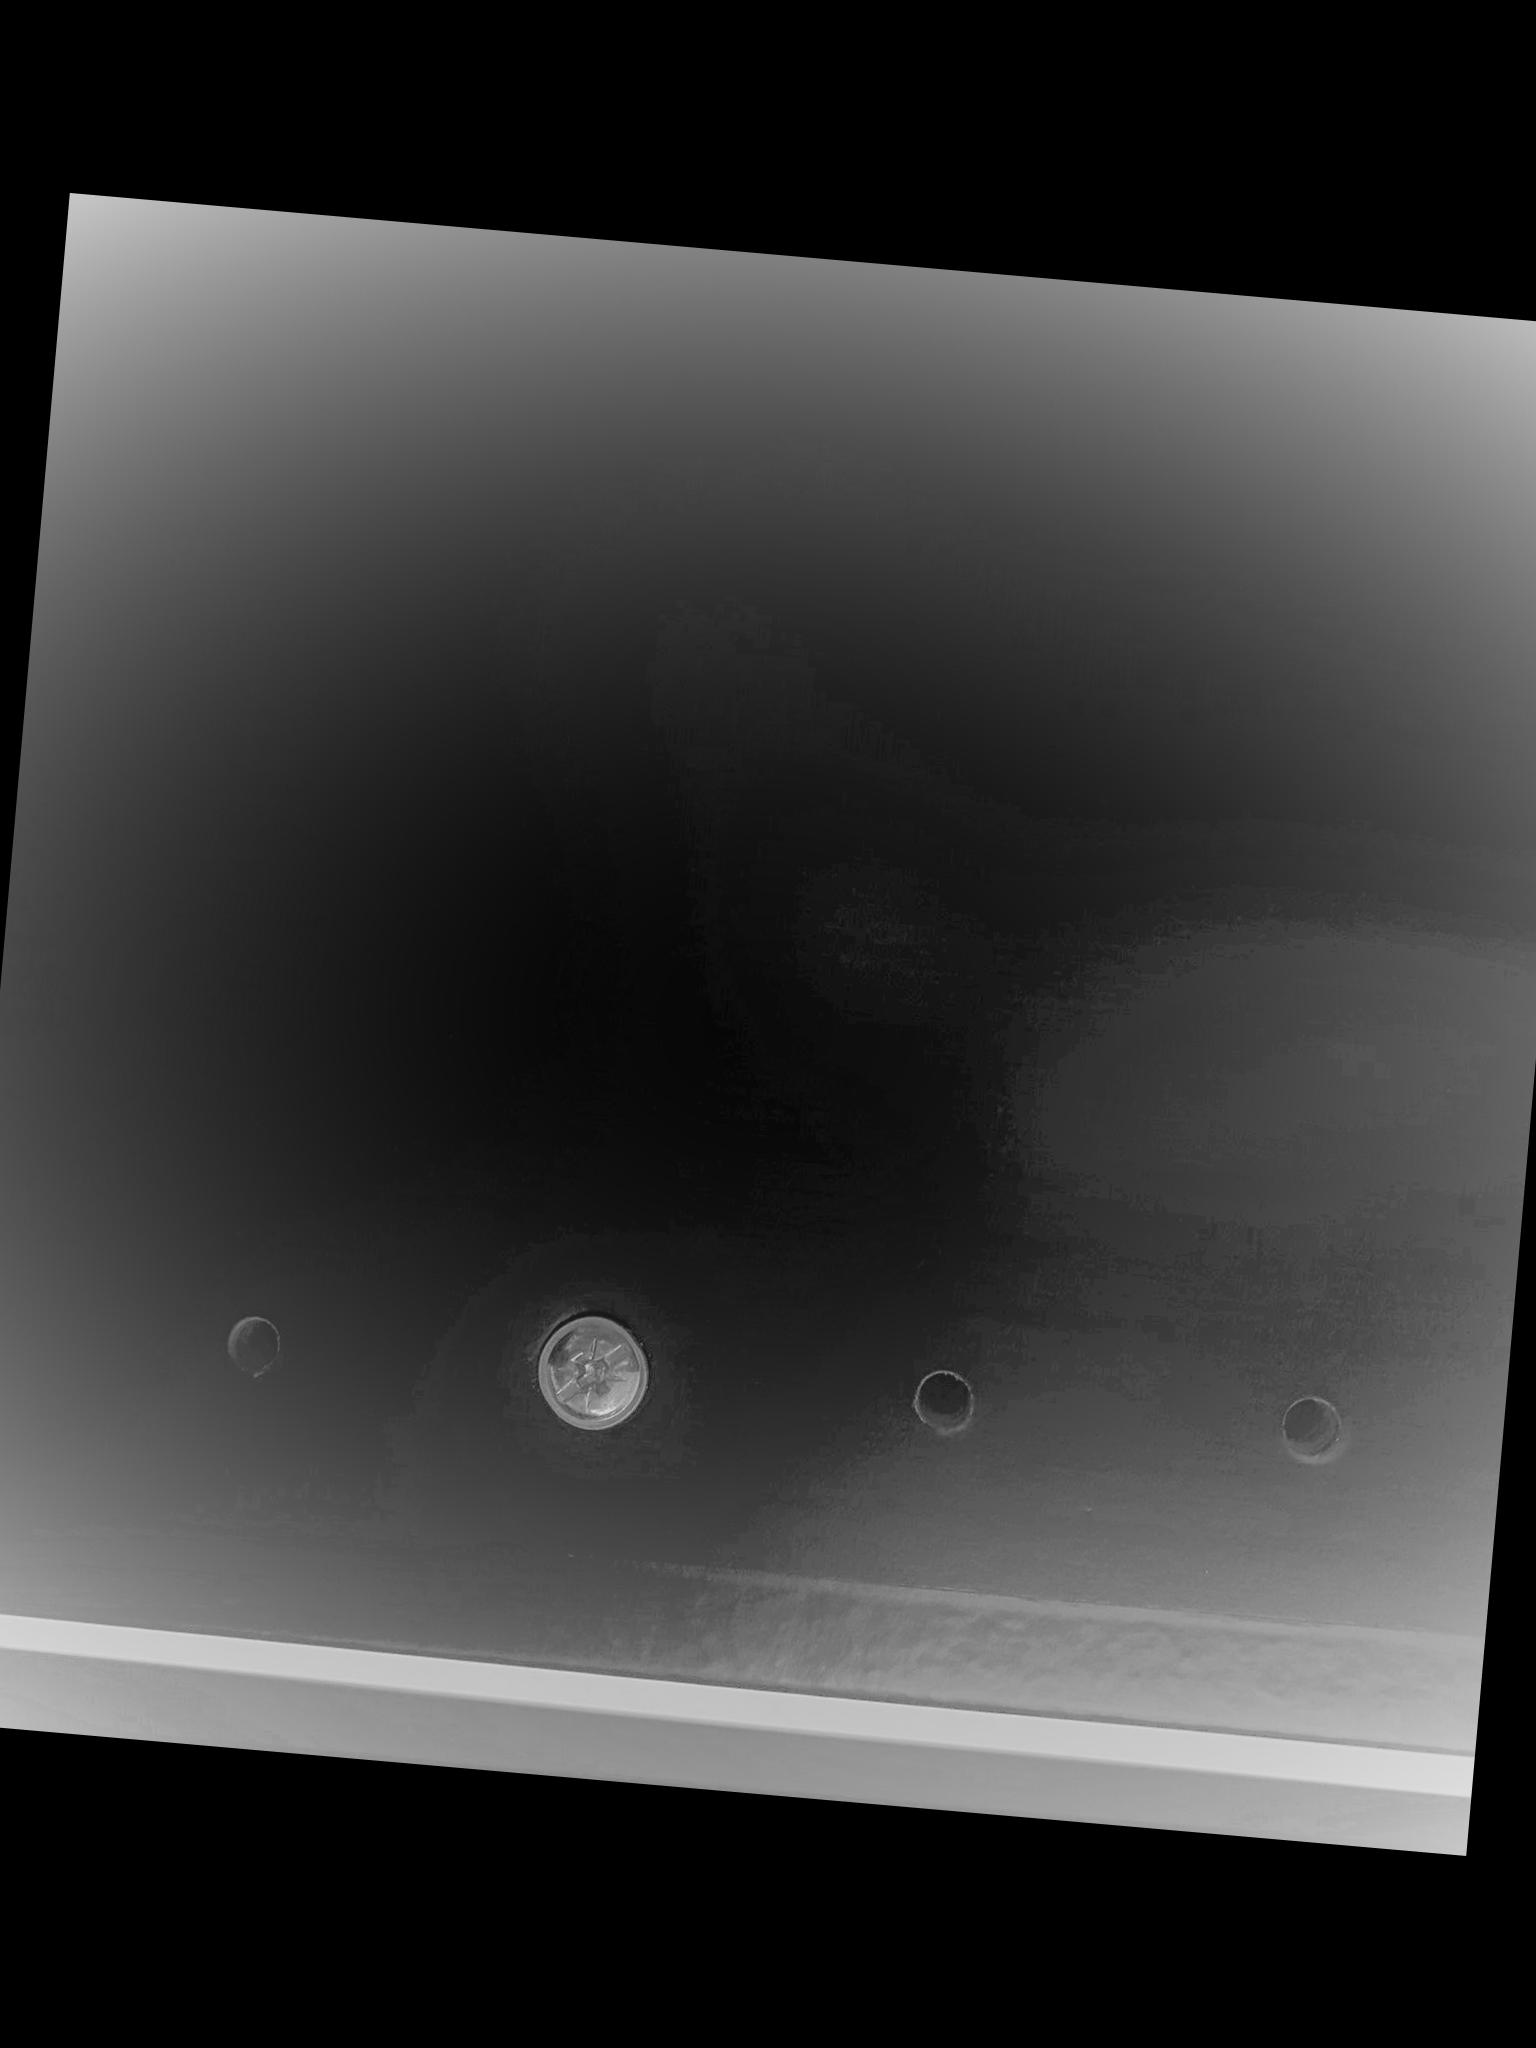PH: (529, 1308, 653, 1437)
